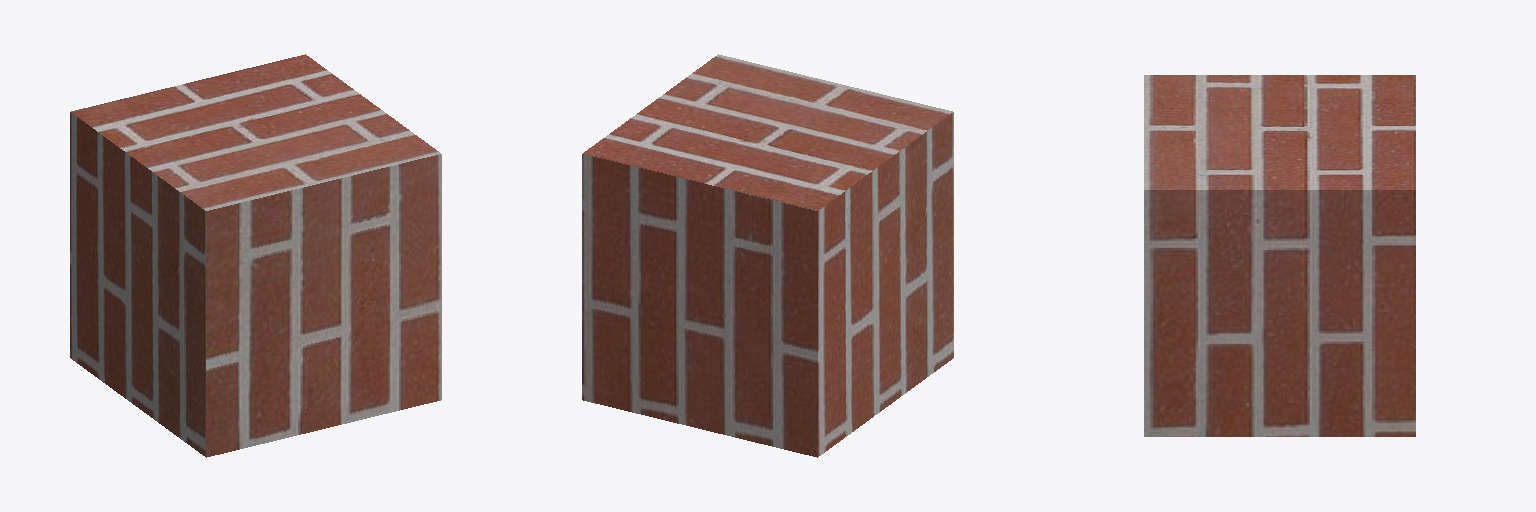
3 renders of one model, left to right at view 1: azimuth 30°, elevation 25°; view 2: azimuth 150°, elevation 25°; view 3: azimuth 270°, elevation 25°, orthographic.
Parts seen in each view (by area): view 1: lowPoly_Cube.001; view 2: lowPoly_Cube.001; view 3: lowPoly_Cube.001.
Part boxes in pixels (bbox=[...]): lowPoly_Cube.001: bbox=[70, 54, 441, 457]; lowPoly_Cube.001: bbox=[582, 54, 953, 457]; lowPoly_Cube.001: bbox=[1144, 75, 1415, 436].
Bounding box in the file's own units: 2 × 2 × 2.
Materials: 1 (1 with a texture image).